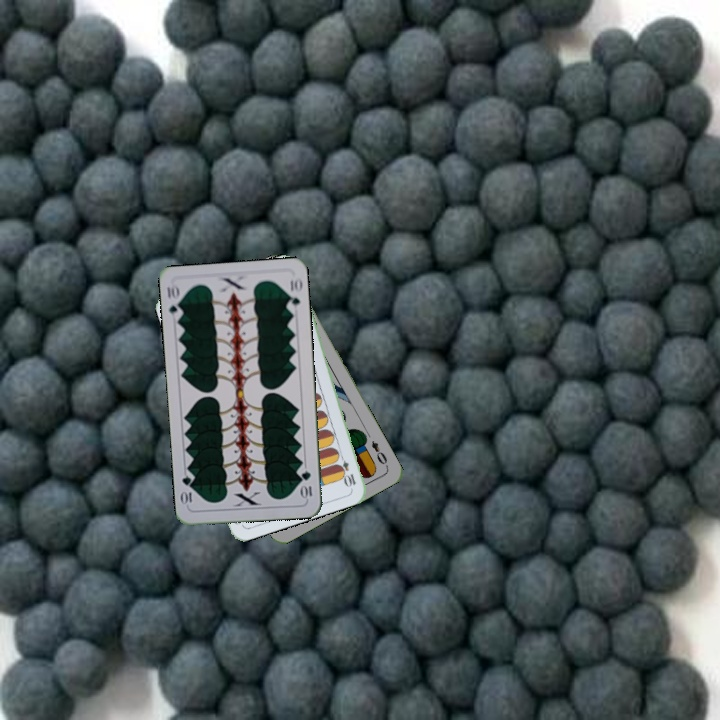E10: (335, 450, 358, 489)
EO: (367, 437, 391, 470)
G10: (163, 281, 185, 322), (297, 467, 314, 501)
